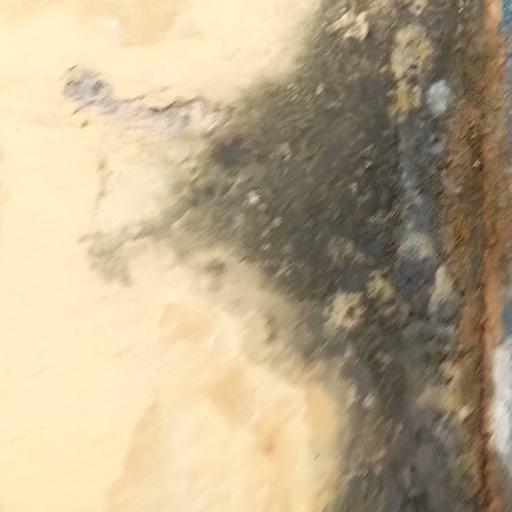algae: (157, 9, 512, 512)
